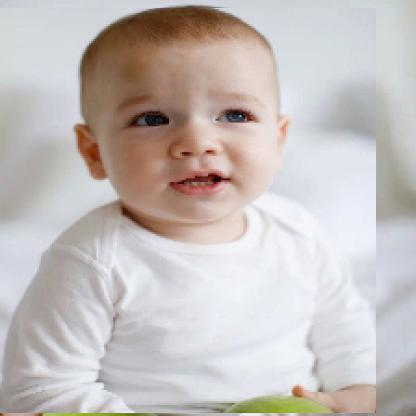child: (1, 9, 378, 415)
